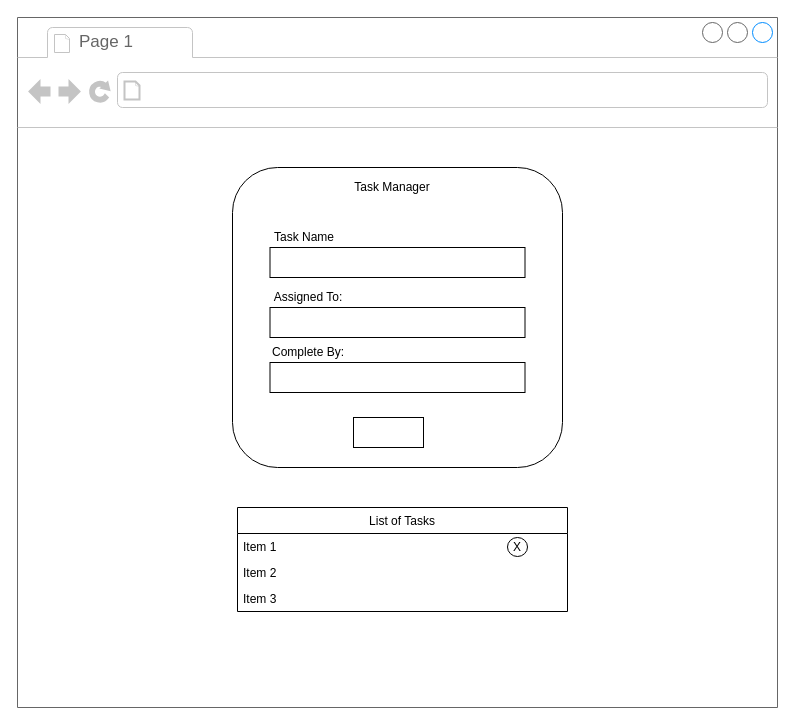
Image size: 795x725. Some labels were removed from this diagram. Here are the shapes that lost their labels. From the top down, the centre of each, then its label:
At (272,90): "https://www.draw.io".
At (388,432): "Create!".
